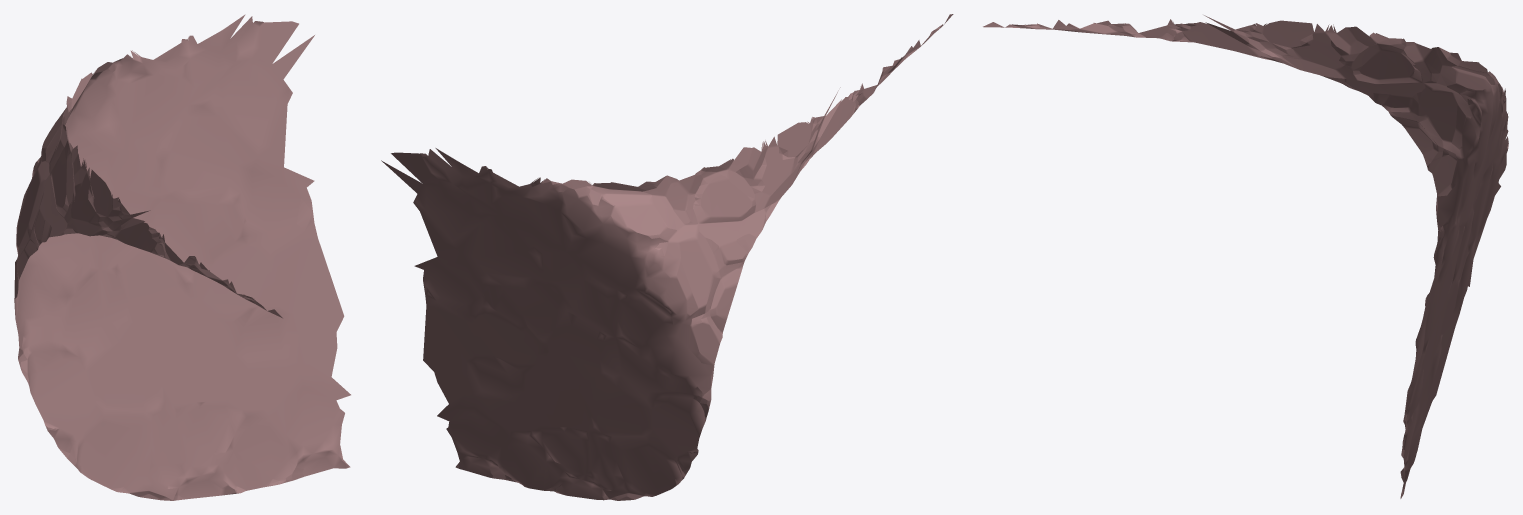
The model's file is plateau.fbx_Rock_Plateau_005LODs.fbx.
3 renders of one model, left to right at view 1: azimuth 30°, elevation 25°; view 2: azimuth 150°, elevation 25°; view 3: azimuth 270°, elevation 25°, orthographic. The views are drawn at different scales.
Parts seen in each view (by area): view 1: Rock Plateau.005_LOD0; view 2: Rock Plateau.005_LOD0; view 3: Rock Plateau.005_LOD0.
Boxes of the visible parts, x1,y1,x2,y2 form: Rock Plateau.005_LOD0: [14, 14, 350, 500]; Rock Plateau.005_LOD0: [381, 14, 953, 500]; Rock Plateau.005_LOD0: [983, 15, 1508, 498].
Size of what is drawn, in the model's own units: 5129 by 5930 by 7931.
